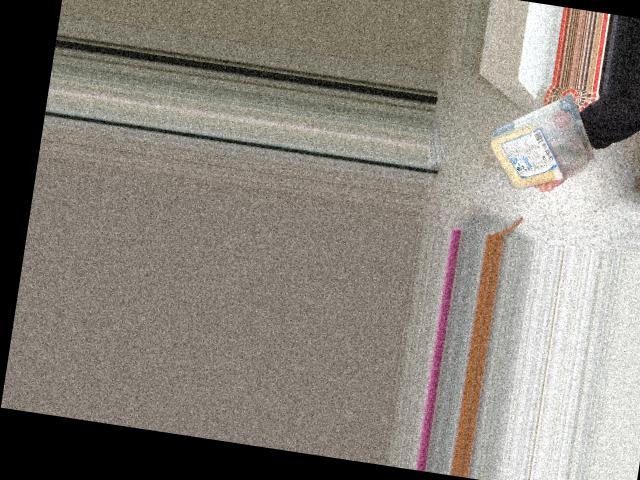cheese: (486, 99, 591, 196)
